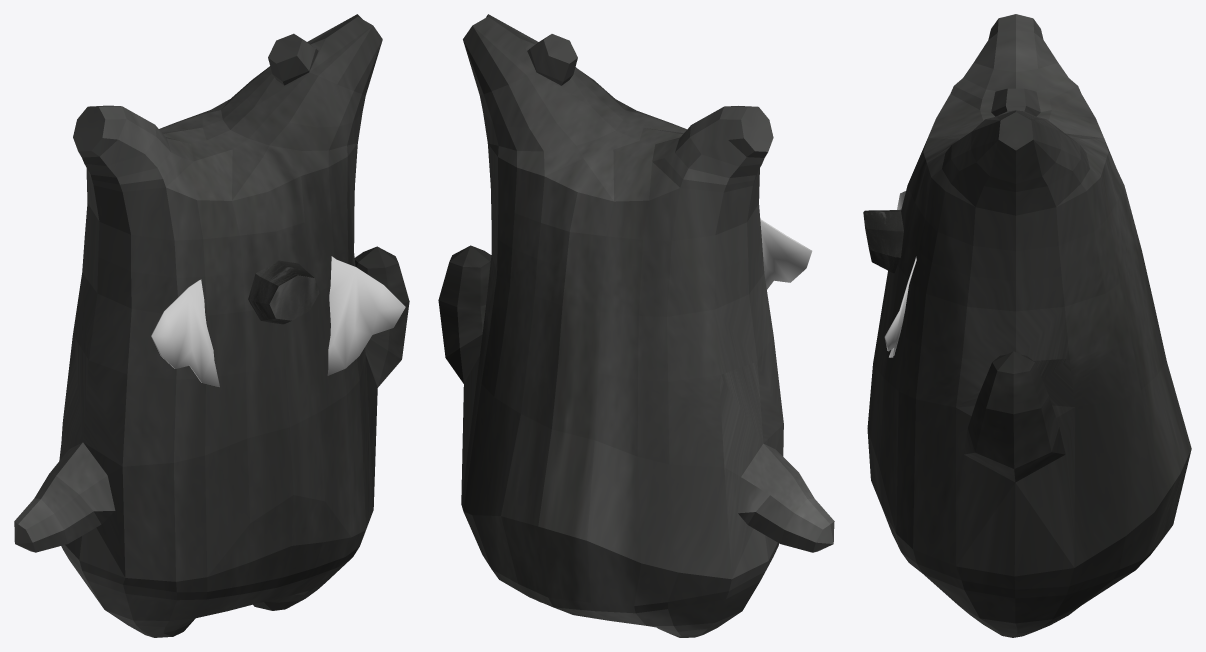
File: frame_0041.obj
3 views of the same model, side by side, from view 1: azimuth 30°, elevation 25°; view 2: azimuth 150°, elevation 25°; view 3: azimuth 270°, elevation 25° (orthographic).
Parts seen in each view (by area): view 1: korok, leaf, nose; view 2: korok, leaf; view 3: korok, nose, leaf.
Part boxes in pixels (x1=…): korok: x1=14, y1=14, x2=409, y2=637; leaf: x1=151, y1=256, x2=405, y2=387; nose: x1=248, y1=260, x2=319, y2=324; korok: x1=438, y1=14, x2=834, y2=637; leaf: x1=760, y1=219, x2=812, y2=289; korok: x1=867, y1=14, x2=1191, y2=637; nose: x1=863, y1=209, x2=903, y2=273; leaf: x1=884, y1=191, x2=916, y2=357.
Bounding box in the file's own units: 1.6 × 2.24 × 1.18.
